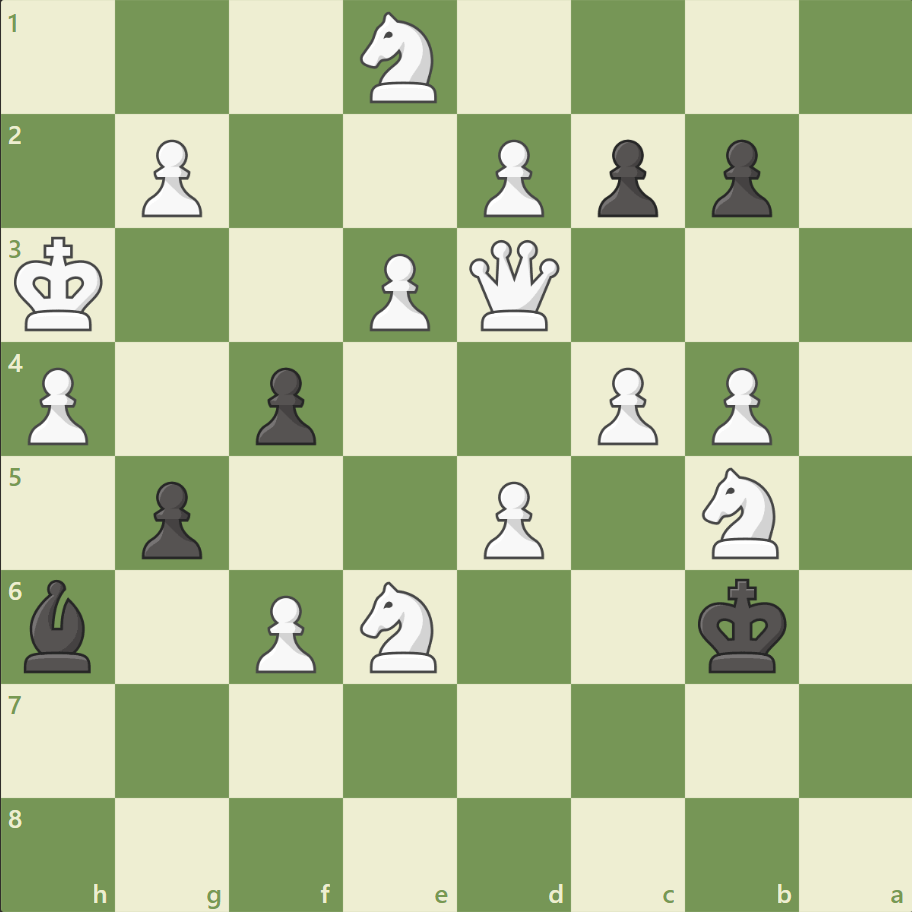K: (11, 231, 111, 339)
N: (351, 7, 449, 110), (351, 575, 449, 677), (692, 461, 789, 564)
P: (247, 586, 322, 677), (474, 473, 549, 564), (701, 359, 776, 450), (20, 359, 95, 450), (474, 132, 549, 223), (133, 132, 208, 223), (588, 359, 662, 450), (361, 246, 435, 337)
Q: (464, 236, 563, 335)
b: (17, 574, 101, 676)
k: (692, 571, 792, 679)
p: (133, 473, 208, 564), (247, 359, 322, 450), (701, 132, 776, 223), (588, 132, 662, 223)
